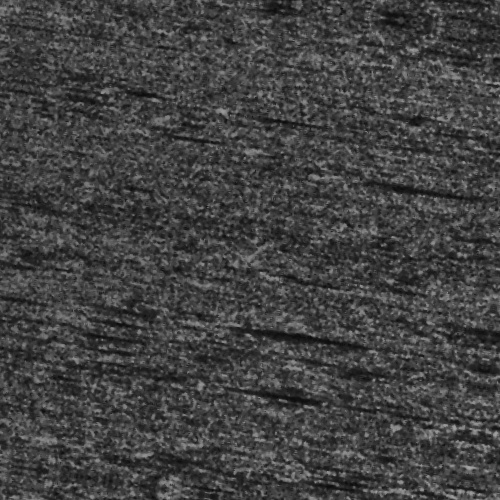object: (187, 321, 260, 330), (285, 160, 358, 167), (203, 384, 256, 391), (62, 485, 83, 500)
shadow: (224, 321, 371, 330), (322, 160, 417, 167), (229, 384, 312, 391), (73, 485, 90, 500)
